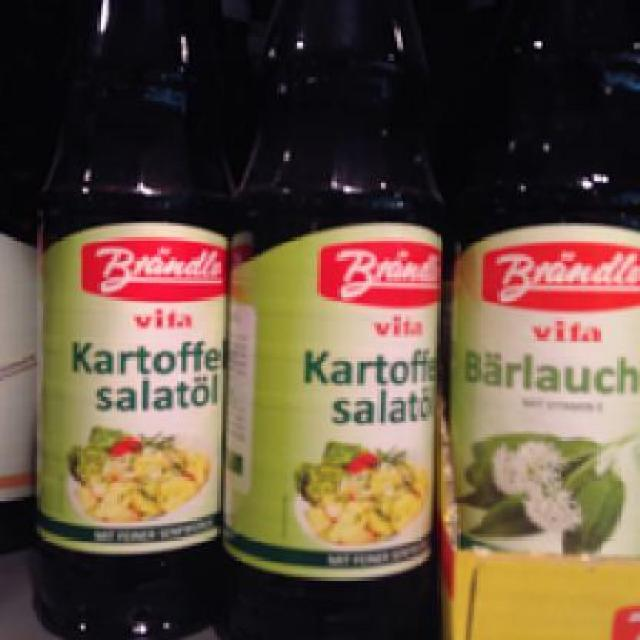Oil: (223, 0, 446, 637), (31, 2, 222, 638), (447, 0, 635, 555)
